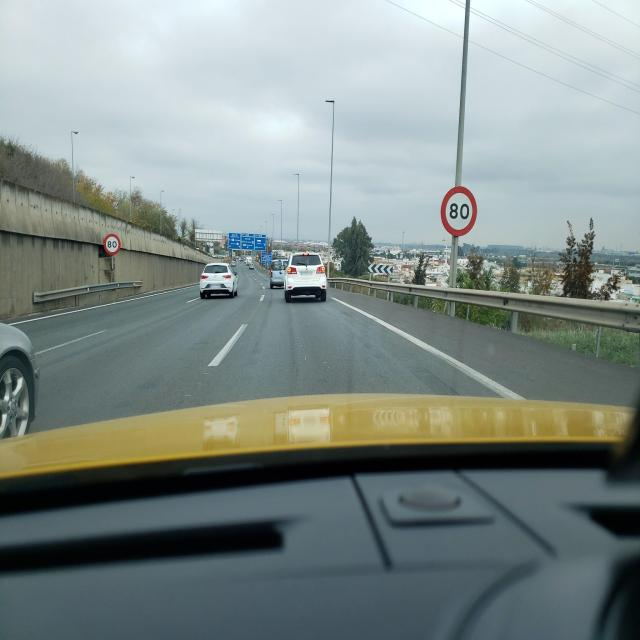car: (0, 288, 41, 444), (283, 250, 328, 304), (199, 261, 239, 300), (269, 260, 286, 290)
